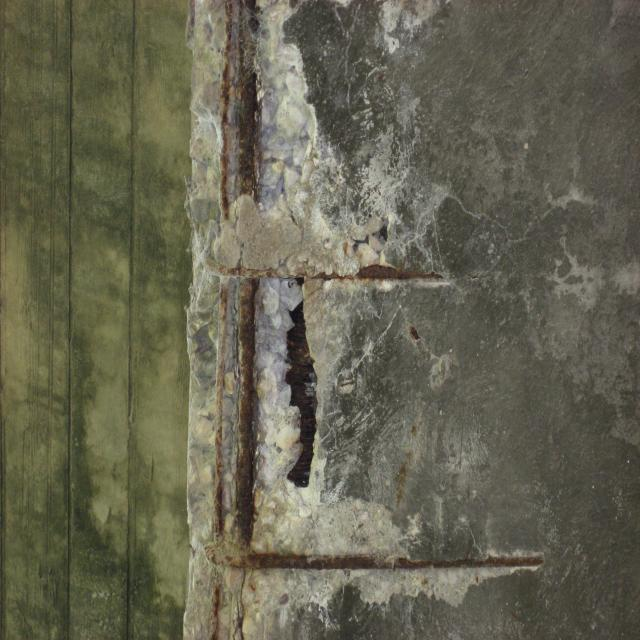corrosion: (206, 0, 552, 640)
